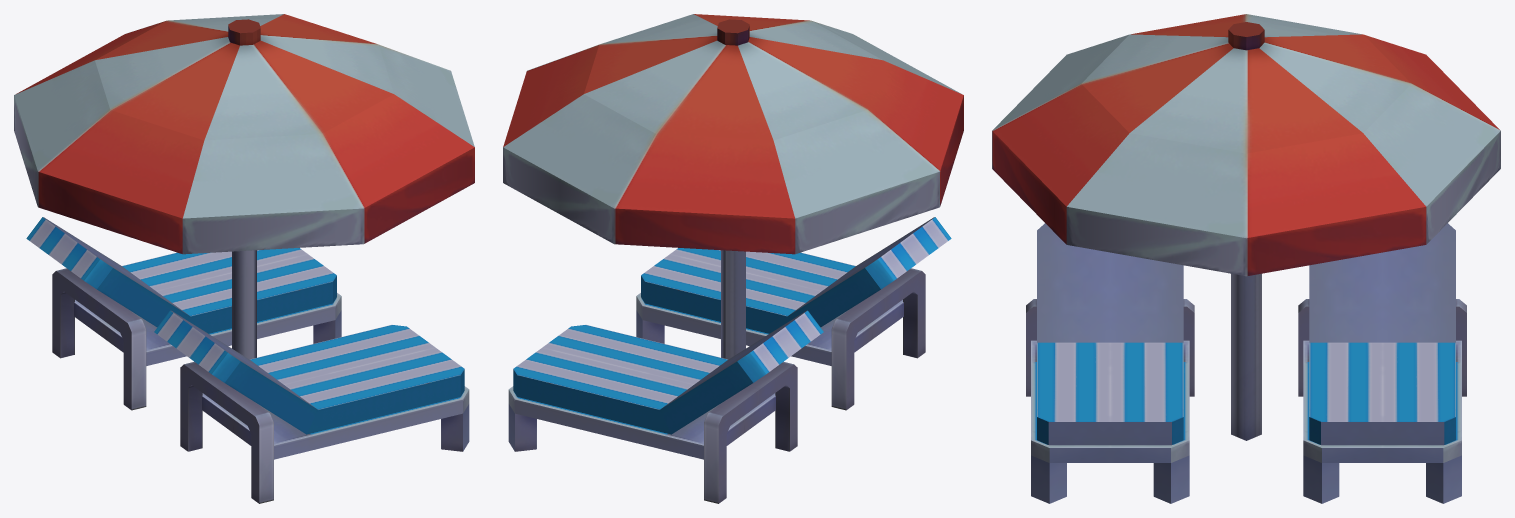
The model's file is scenes_beach_chair01a.FBX.
The picture shows the model from 3 angles, left to right: view 1: azimuth 30°, elevation 25°; view 2: azimuth 150°, elevation 25°; view 3: azimuth 270°, elevation 25°; orthographic projection. The views are drawn at different scales.
Visible parts, largest first — view 1: scenes_beach_chair01a; view 2: scenes_beach_chair01a; view 3: scenes_beach_chair01a.
Part boxes in pixels (box(x1,y1,x2,y2)): scenes_beach_chair01a: box(14, 14, 474, 503); scenes_beach_chair01a: box(503, 14, 963, 503); scenes_beach_chair01a: box(992, 14, 1500, 503).
Size of the model in its own units: 679 by 597 by 679.
